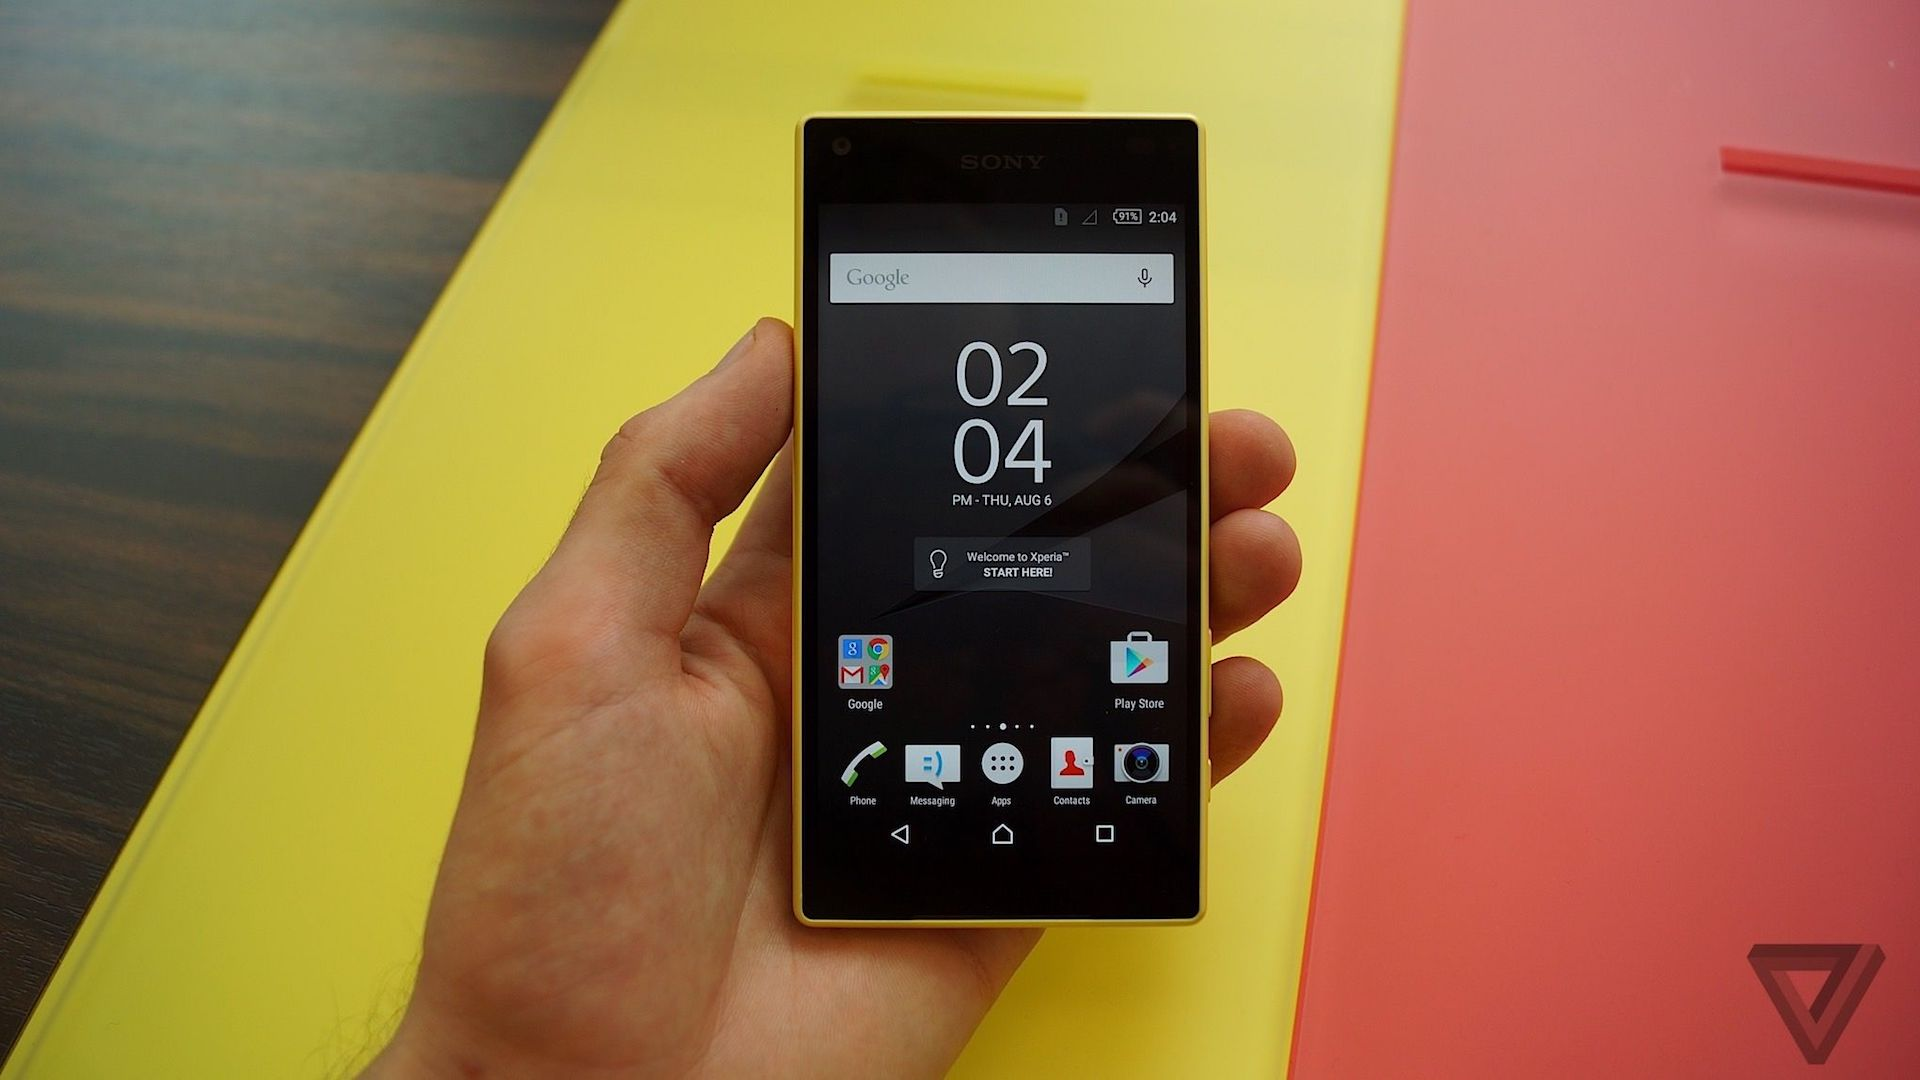smartphone: (786, 111, 1211, 934)
